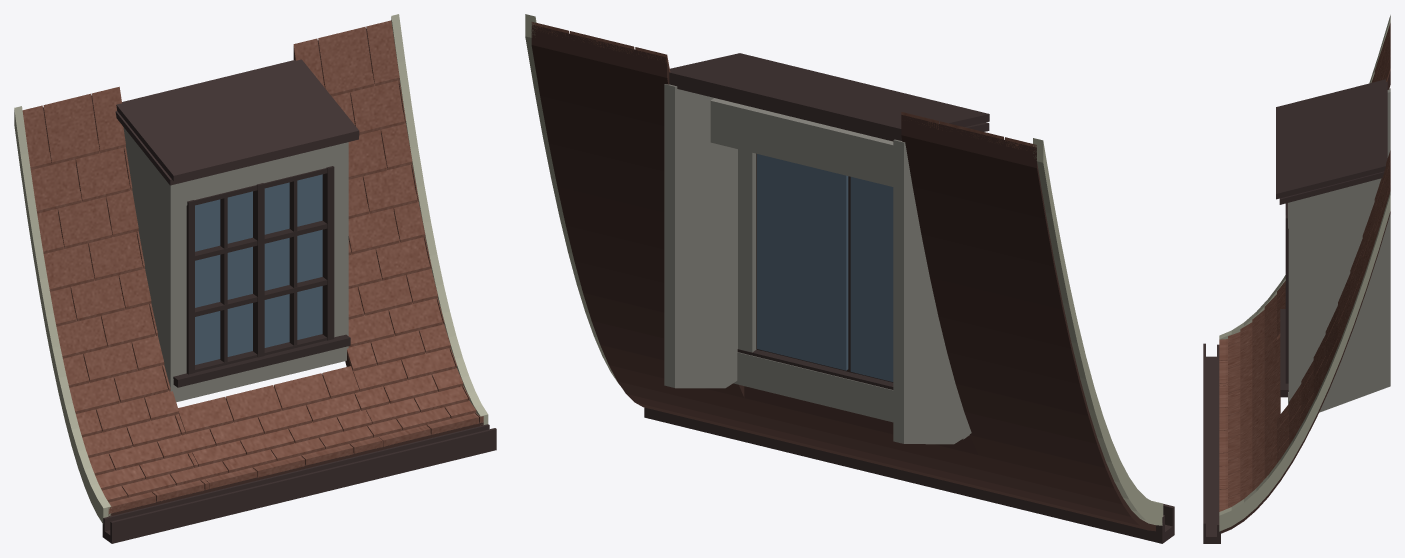
Rendered from huangpu-shaoxing-three-tiled-dormer-lod.glb.
3 renders of one model, left to right at view 1: azimuth 30°, elevation 25°; view 2: azimuth 150°, elevation 25°; view 3: azimuth 270°, elevation 25°, orthographic. The views are drawn at different scales.
Parts seen in each view (by area): view 1: 绍兴路3号住宅曲面红瓦屋顶与双扇格窗; view 2: 绍兴路3号住宅曲面红瓦屋顶与双扇格窗; view 3: 绍兴路3号住宅曲面红瓦屋顶与双扇格窗.
Part boxes in pixels (box(x1,y1,x2,y2)): 绍兴路3号住宅曲面红瓦屋顶与双扇格窗: box(14, 14, 496, 543); 绍兴路3号住宅曲面红瓦屋顶与双扇格窗: box(525, 14, 1174, 543); 绍兴路3号住宅曲面红瓦屋顶与双扇格窗: box(1203, 15, 1390, 543).
Size of the model in its own units: 2.79 by 2.52 by 1.23.
7 materials, 1 textured.
